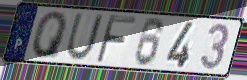3: (198, 21, 231, 72)
4: (164, 19, 195, 70)
6: (133, 16, 165, 68)
F: (93, 13, 138, 65)
Q: (31, 10, 69, 60)
U: (64, 12, 106, 63)
